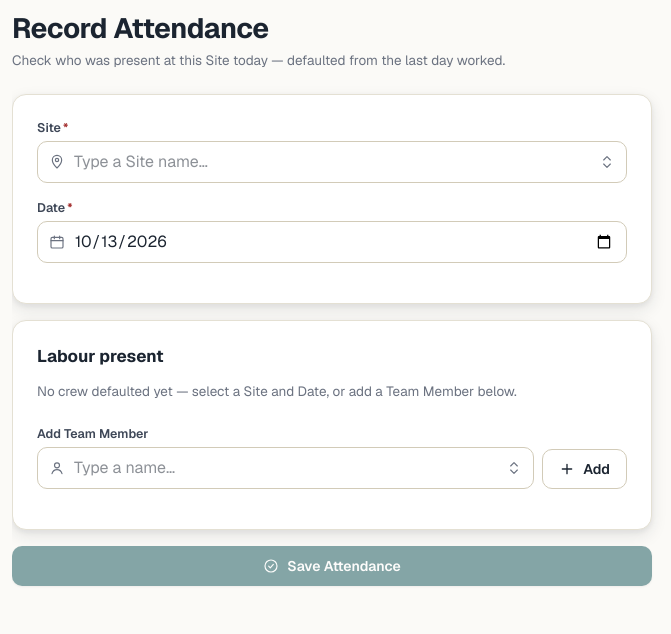
NewWorkRecordPage › hides a disabled Team Member from the Add-crew picker, but still loads active ones
Click the button named "Open Add Team Member options": (514, 468) [498,452,530,484]
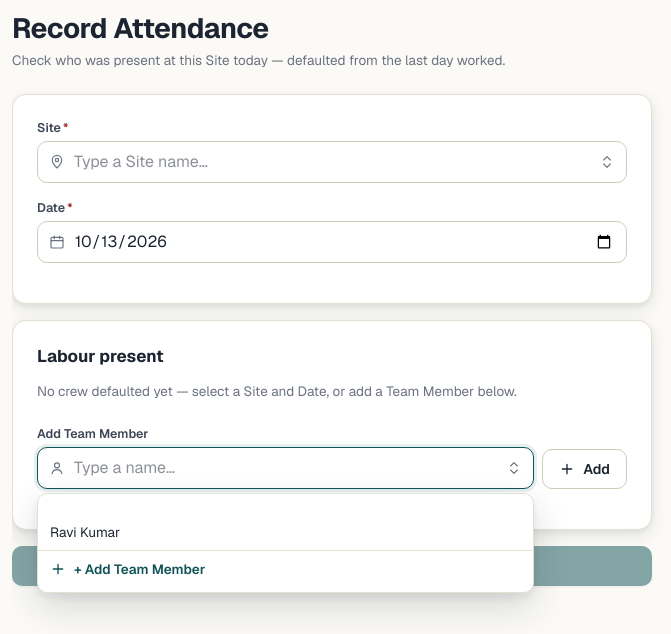
Now the option "Ravi Kumar" is shown, box [50,523,120,541]
